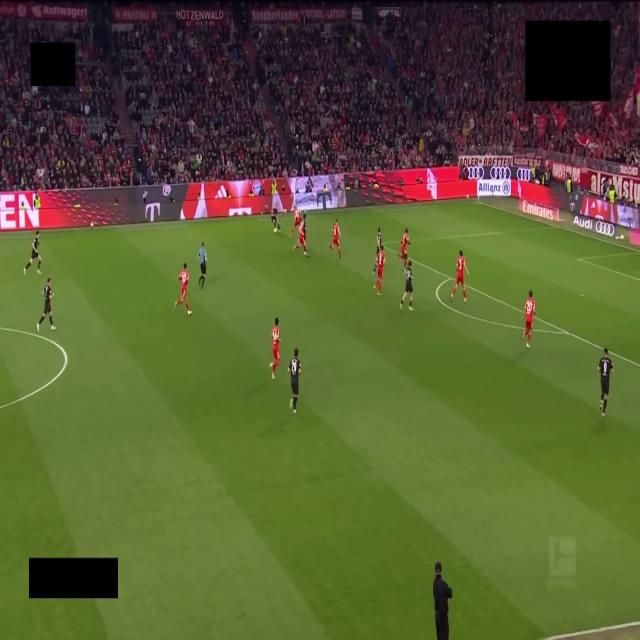ball: (273, 228, 277, 232)
player: (598, 347, 614, 417), (37, 279, 55, 331), (451, 250, 468, 302), (175, 264, 191, 315), (521, 290, 535, 347), (288, 348, 300, 414), (24, 231, 41, 274), (400, 261, 413, 311), (374, 245, 385, 295), (270, 318, 279, 379), (294, 214, 307, 256), (329, 219, 341, 258), (399, 229, 410, 269), (290, 208, 301, 237), (271, 208, 280, 232), (376, 228, 381, 256)
referee: (198, 242, 207, 288)
